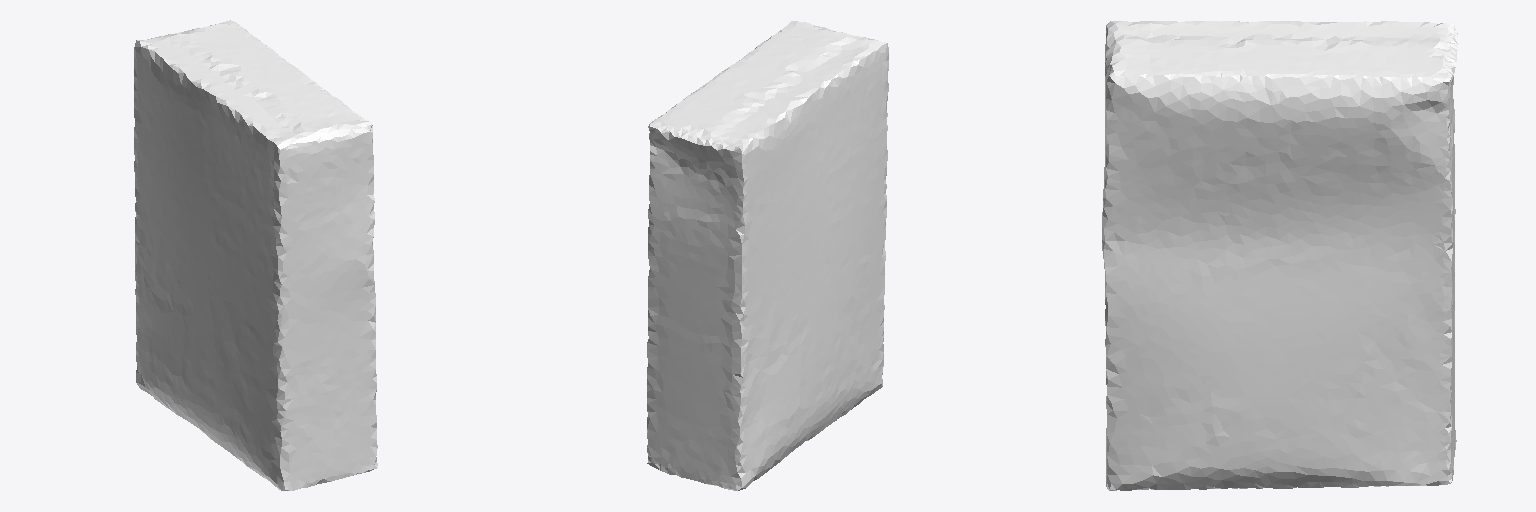
URDF robot description (cracker_box):
<?xml version="1.0" ?>
<robot name="cracker_box">
  <link name="baseLink">
    <contact>
    	<friction_anchor/>
    	   <lateral_friction value="1.0"/>
    </contact>
    <inertial>
      <origin rpy="0 0 0" xyz="0 0 0"/>
       <!-- mass controls penetration -->
       <mass value=".5"/>
       <inertia ixx="1e-4" ixy="0" ixz="0" iyy="1e-4" iyz="0" izz="1e-4"/>
    </inertial>
    <visual>
      <origin rpy="0 0 0" xyz="0 0 0"/>
      <geometry>
        <mesh filename="cracker_box.obj"/>
      </geometry>
       <material name="white">
        <color rgba="1 1 1 1"/>
      </material>
    </visual>
    <collision>
      <origin rpy="0 0 0" xyz="0 0 0"/>
      <geometry>
        <mesh filename="cracker_box.obj"/>
      </geometry>
    </collision>
  </link>
</robot>

--- Facts derived from the render (not from the file) ---
3 views of the same robot in one strip: view 1: azimuth 30°, elevation 25°; view 2: azimuth 150°, elevation 25°; view 3: azimuth 270°, elevation 25° (orthographic).
Model cracker_box with 1 links and 0 joints (none), rooted at baseLink, posed all joints at 0.
Visible links, largest first — view 1: baseLink; view 2: baseLink; view 3: baseLink.
Link boxes in pixels (x1,y1,x2,y2): baseLink: (134,20,377,490); baseLink: (647,21,888,490); baseLink: (1102,20,1457,490).
Size in the robot's own frame: 0.0717 by 0.1641 by 0.2134 metres.
1 mesh visuals loaded from 1 distinct referenced files (1 OBJ).